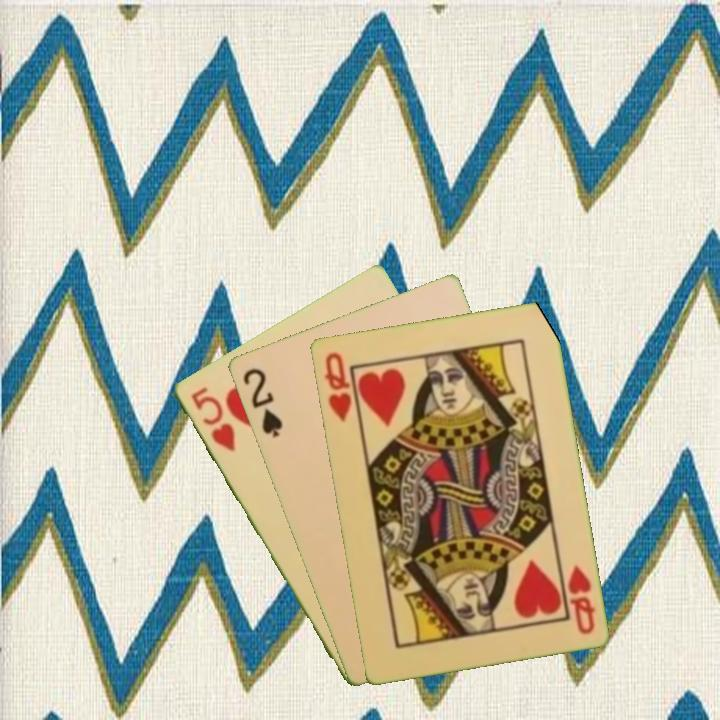2s: (239, 364, 285, 441)
5h: (186, 382, 238, 454)
Qh: (563, 561, 598, 637), (320, 348, 354, 424)
